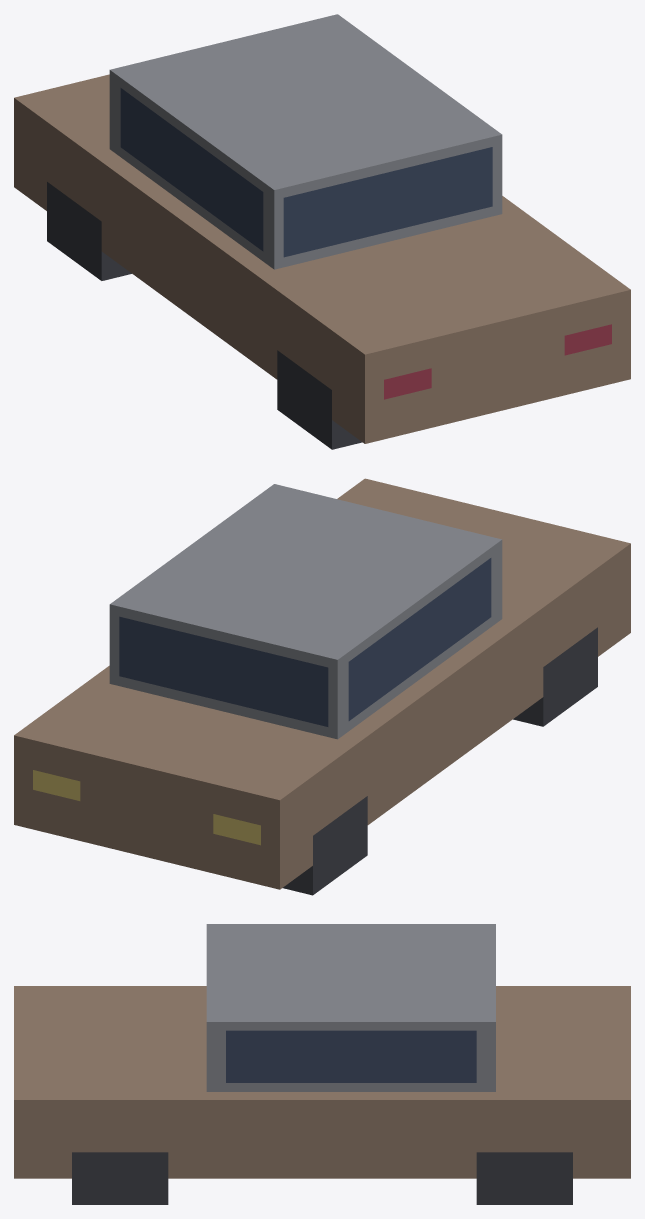
The model's file is voiture_brune.glb.
3 renders of one model, top to bottom at view 1: azimuth 30°, elevation 25°; view 2: azimuth 150°, elevation 25°; view 3: azimuth 270°, elevation 25°, orthographic. The views are drawn at different scales.
Visible parts, largest first — view 1: main; view 2: main; view 3: main.
Boxes of the visible parts, x1,y1,x2,y2 form: main: (14, 14, 630, 449); main: (14, 478, 630, 895); main: (14, 924, 630, 1204).
Size of the model in its own units: 1.75 by 1.25 by 4.
